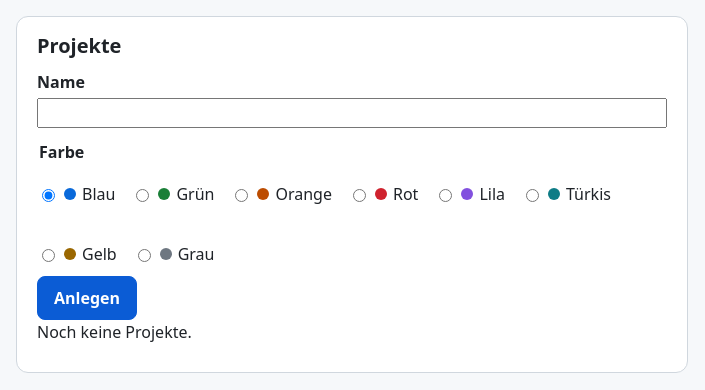
ProjectsView: create (edge cases 1–4, 7) › stores the trimmed name with the chosen color and clears the form (edge case 1)
Expected: the form named "Neues Projekt" is shown, [37,70,667,320]
Click the radio button labelled "Türkis". click: {"x": 532, "y": 196}
box: [526,189,539,202]
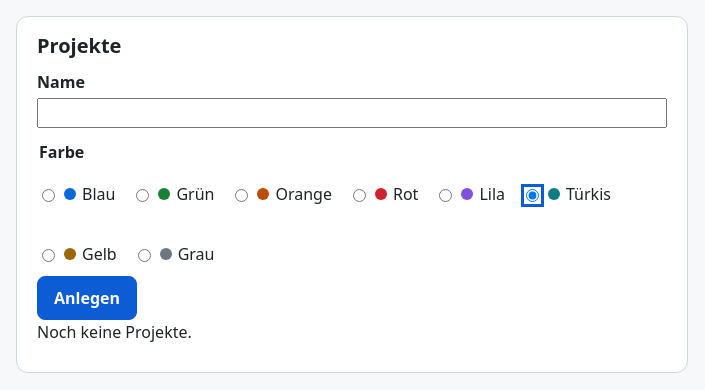
Type "  Kunde A  " into the field labelled "Name". click: {"x": 352, "y": 113}
box: [37,98,667,128]
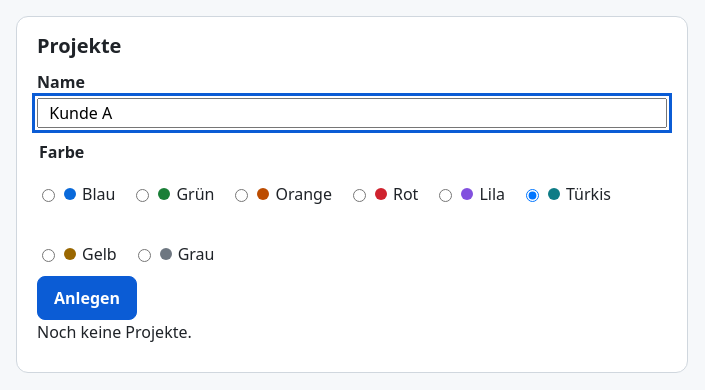
Click the button "Anlegen". click: {"x": 87, "y": 298}
box: [37,276,137,320]
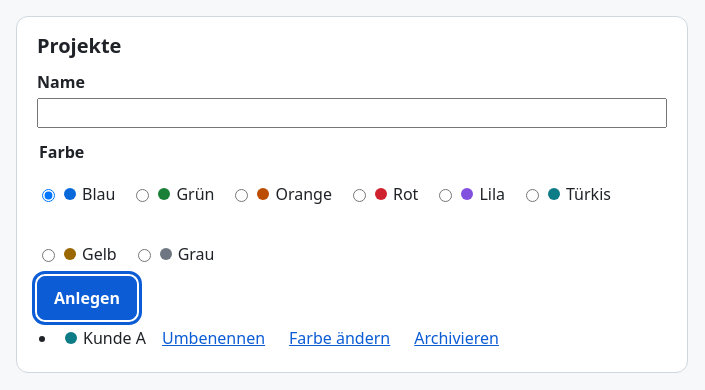
Expected: the radio button labelled "Blau" is checked, [42,189,55,202]
